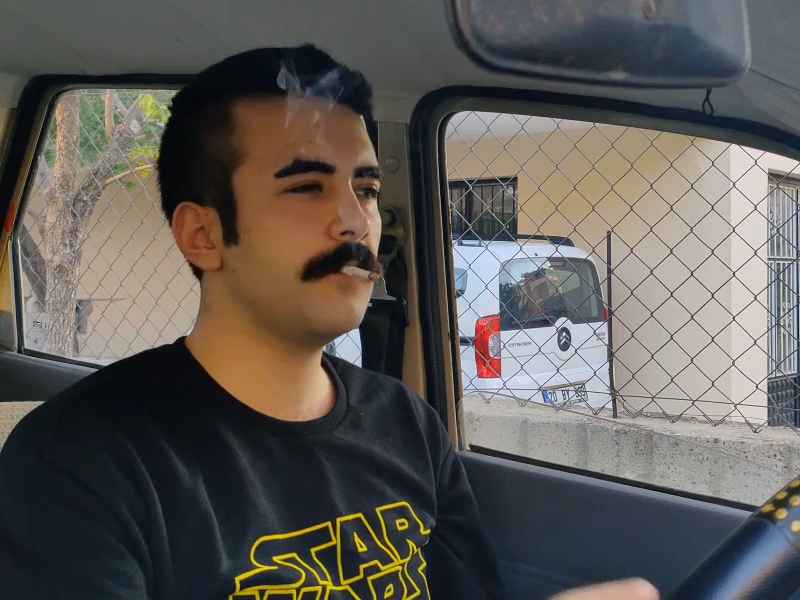sigara: (336, 261, 386, 285)
